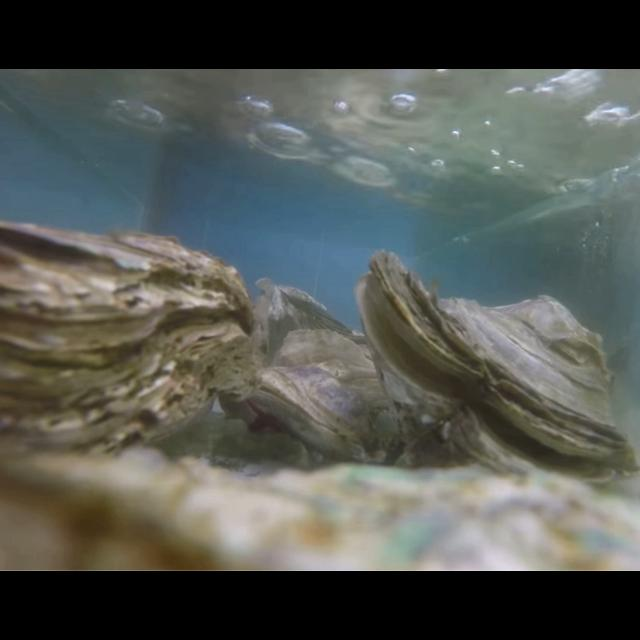Oyster-Closed: (0, 445, 640, 571), (0, 221, 254, 468), (254, 274, 370, 364)
Oyster-Open: (355, 249, 640, 493), (246, 329, 416, 468)
